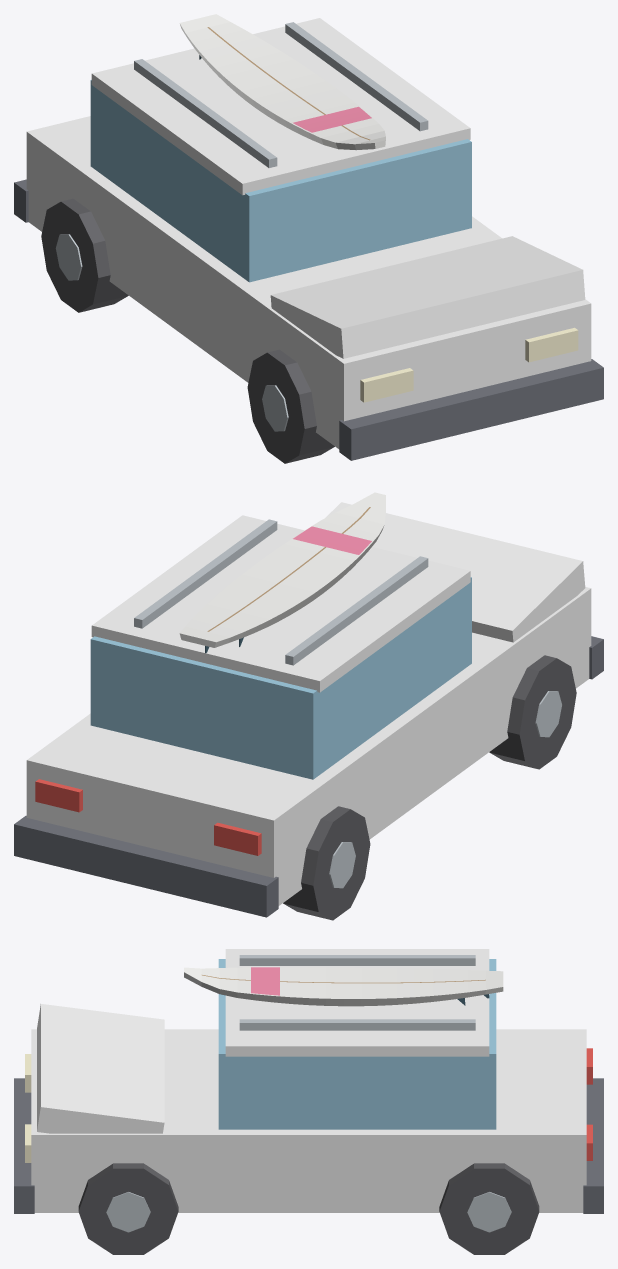
The model's file is Car.fbx.
3 renders of one model, top to bottom at view 1: azimuth 30°, elevation 25°; view 2: azimuth 150°, elevation 25°; view 3: azimuth 270°, elevation 25°, orthographic. The views are drawn at different scales.
Parts seen in each view (by area): view 1: Car; view 2: Car; view 3: Car.
Boxes of the visible parts, <box> form: Car: <box>14,14,603,463</box>; Car: <box>14,492,603,920</box>; Car: <box>14,949,603,1254</box>.
Size of the model in its own units: 2 by 1.8 by 4.25.
